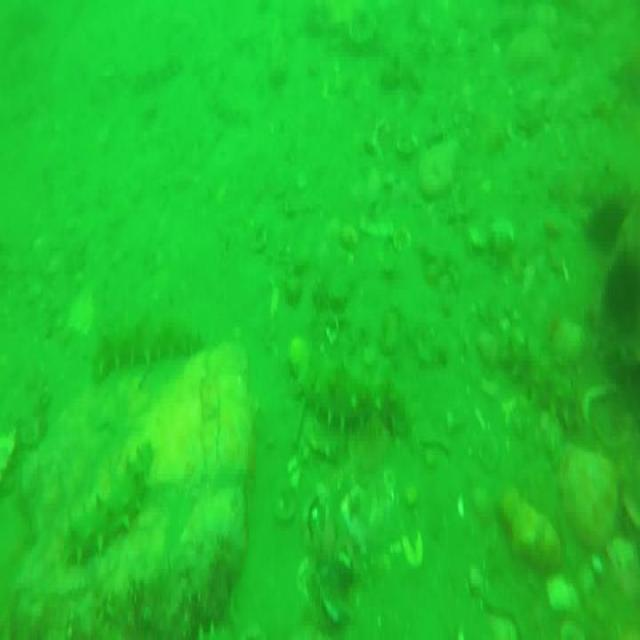echinus: (580, 198, 628, 256)
holothurian: (62, 440, 154, 560), (289, 351, 403, 439), (499, 326, 583, 434), (92, 314, 206, 373), (122, 54, 180, 88)
scallop: (543, 570, 574, 608), (347, 11, 378, 46), (493, 221, 518, 256)
